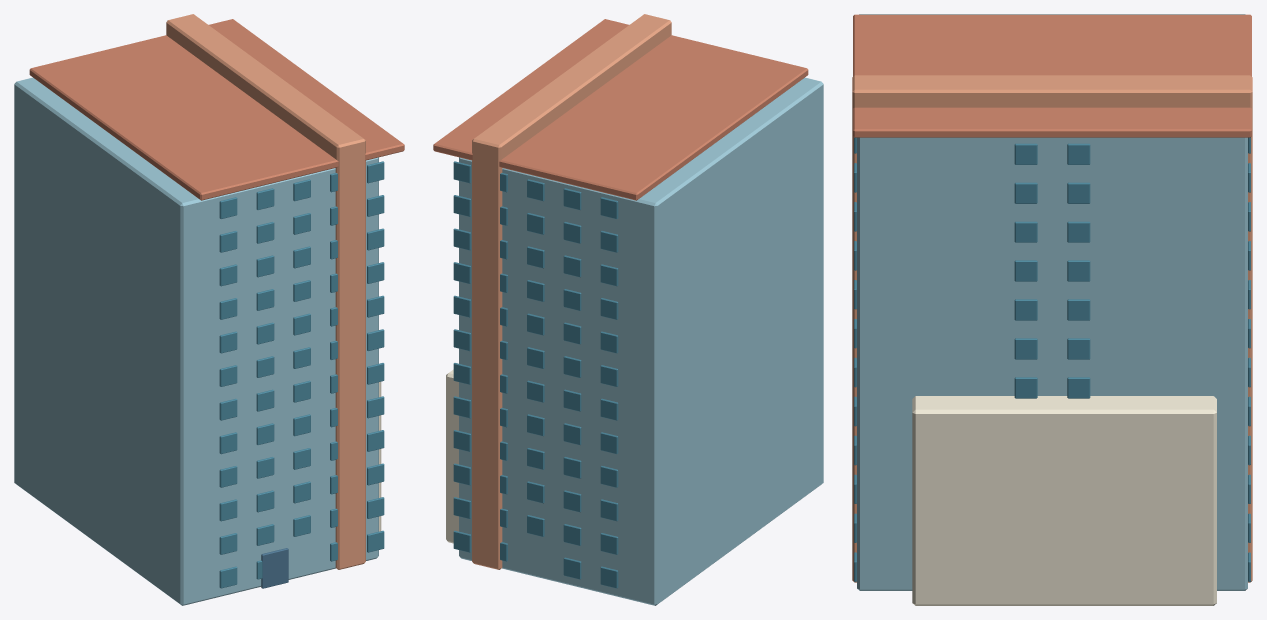
Rendered from RES_HIGH_2x3_002.glb.
The picture shows the model from 3 angles, left to right: view 1: azimuth 30°, elevation 25°; view 2: azimuth 150°, elevation 25°; view 3: azimuth 270°, elevation 25°; orthographic projection. The views are drawn at different scales.
Parts seen in each view (by area): view 1: RES_HIGH_2x3_002_Visual; view 2: RES_HIGH_2x3_002_Visual; view 3: RES_HIGH_2x3_002_Visual.
Part boxes in pixels (x1=…): RES_HIGH_2x3_002_Visual: x1=14, y1=14, x2=404, y2=605; RES_HIGH_2x3_002_Visual: x1=433, y1=14, x2=823, y2=605; RES_HIGH_2x3_002_Visual: x1=852, y1=14, x2=1252, y2=605.
Size of what is drawn, in the model's own units: 3.72 by 6.71 by 4.94.
